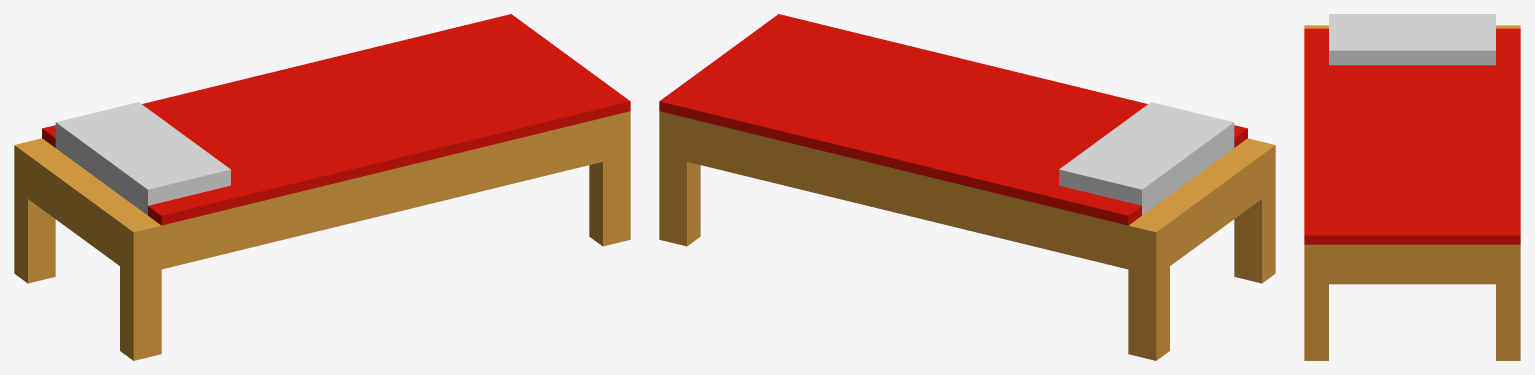
Rendered from BedDummy.fbx.
3 renders of one model, left to right at view 1: azimuth 30°, elevation 25°; view 2: azimuth 150°, elevation 25°; view 3: azimuth 270°, elevation 25°, orthographic. The views are drawn at different scales.
Parts seen in each view (by area): view 1: Cube; view 2: Cube; view 3: Cube.
Part boxes in pixels (<box>): Cube: <box>14,14,630,360</box>; Cube: <box>659,14,1275,360</box>; Cube: <box>1304,14,1520,360</box>.
Size of the model in its own units: 481 by 143 by 200.
